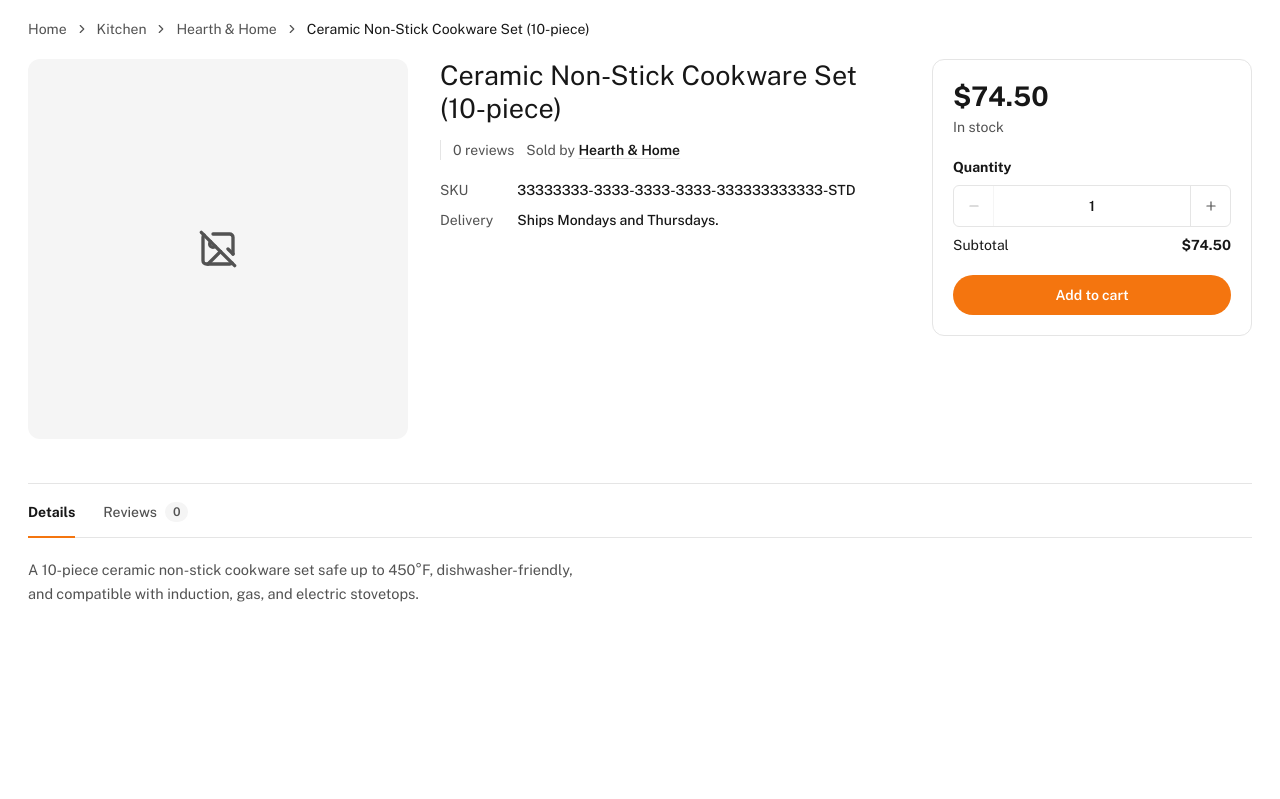
review flow › will not submit without a rating
Click the tab "Reviews 0": (146, 513) [103,488,188,538]
(page scrolled)
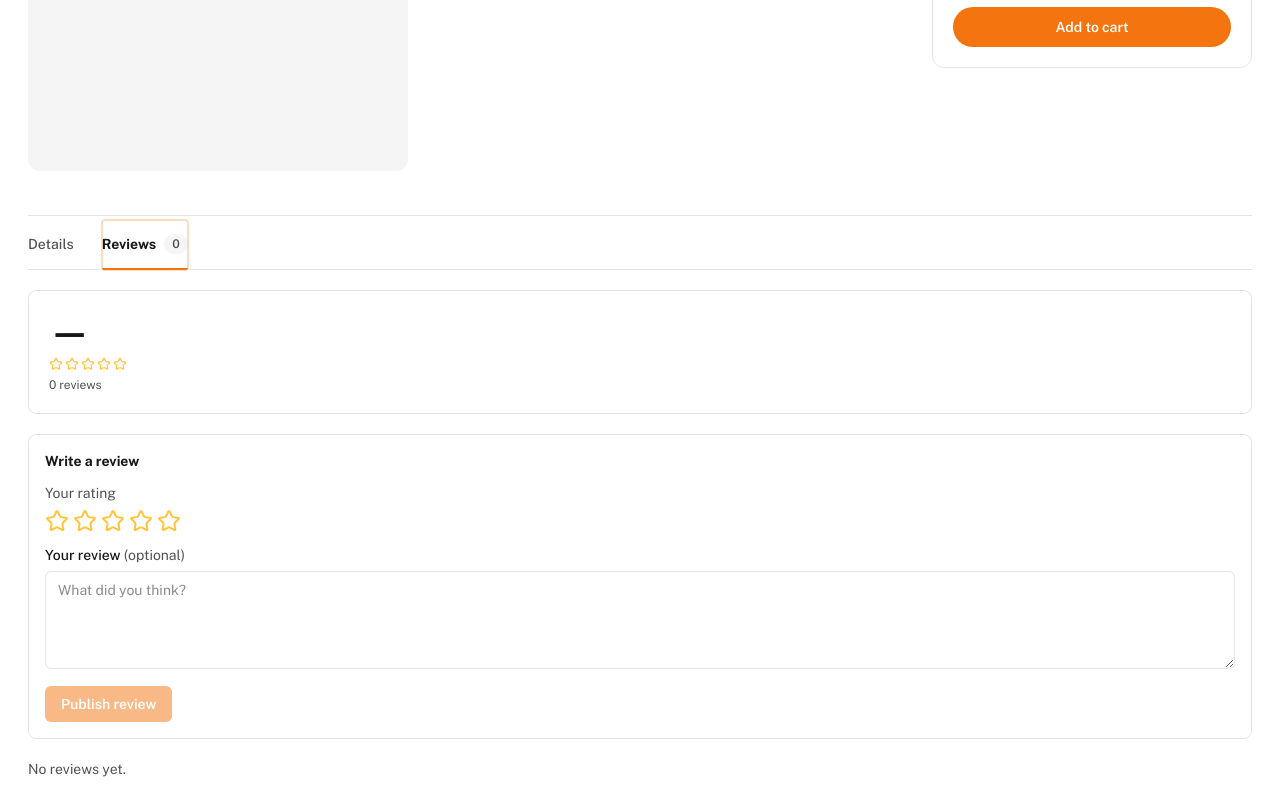
Now the button "Publish review" is disabled, box [45,686,172,722]
Click the radio button named "3 stars": (113, 521) [101,509,125,533]
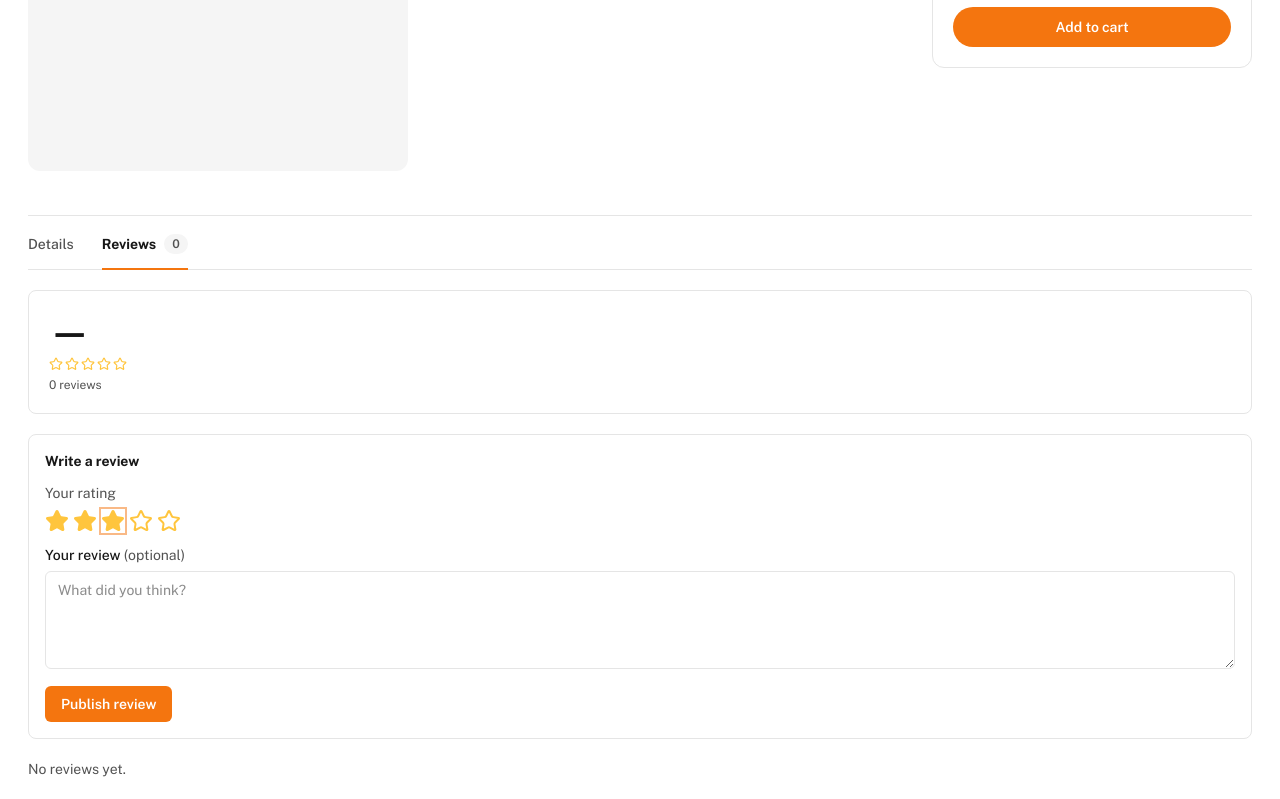
Now the button "Publish review" is enabled, box [45,686,172,722]
